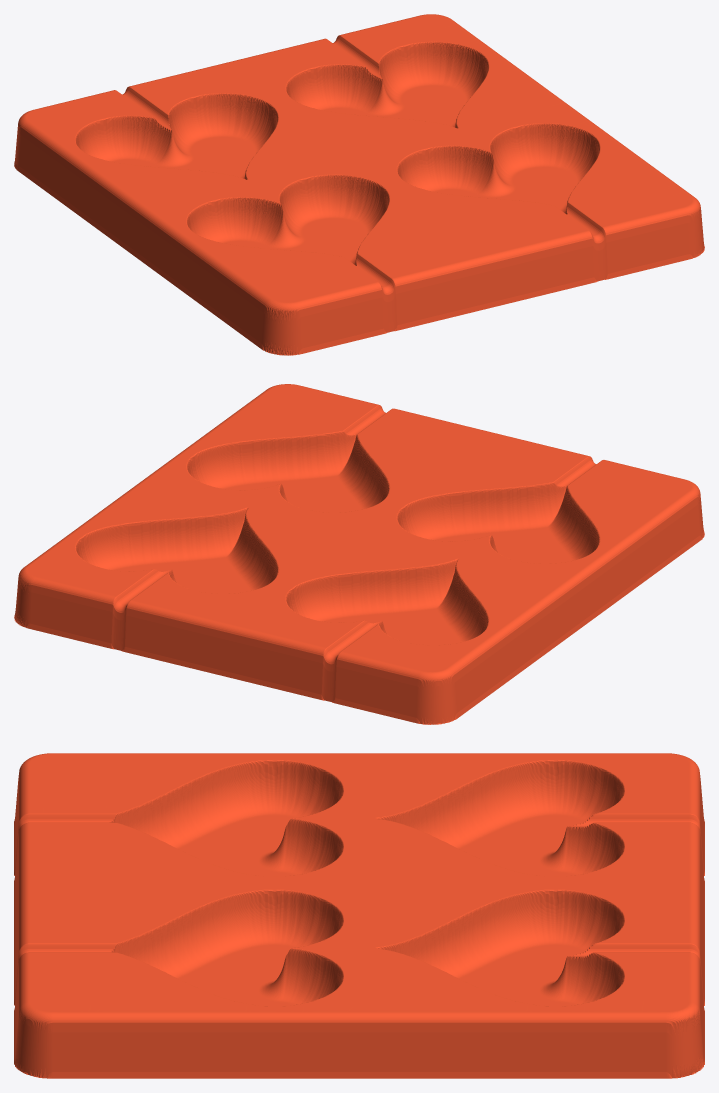
File: mold.glb
3 renders of one model, top to bottom at view 1: azimuth 30°, elevation 25°; view 2: azimuth 150°, elevation 25°; view 3: azimuth 270°, elevation 25°, orthographic. The views are drawn at different scales.
Parts seen in each view (by area): view 1: geometry_0; view 2: geometry_0; view 3: geometry_0.
Boxes of the visible parts, x1,y1,x2,y2 form: geometry_0: [14, 14, 704, 355]; geometry_0: [14, 384, 704, 724]; geometry_0: [14, 753, 704, 1078].
Bounding box in the file's own units: 0.1497 × 0.0155 × 0.1613.
